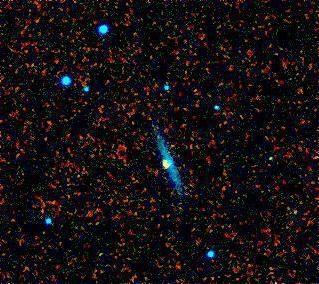star: (150, 150, 180, 180)
